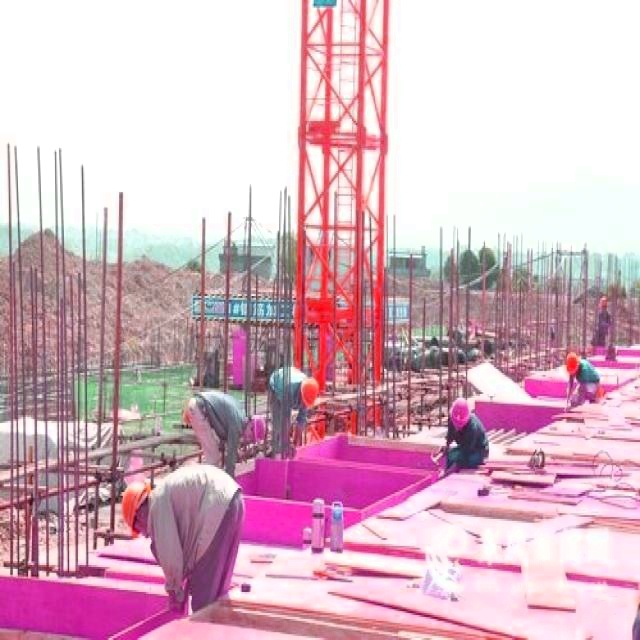Con_Casco: (124, 479, 153, 529), (450, 396, 470, 431), (302, 379, 320, 410)
